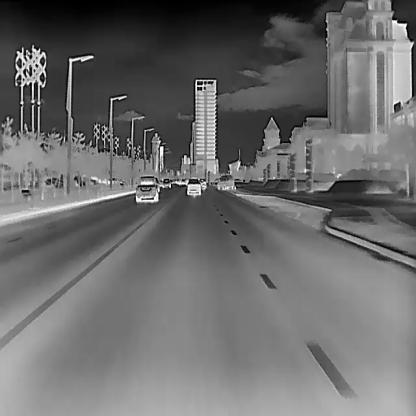car: (133, 173, 159, 202), (216, 175, 234, 191), (186, 174, 199, 196), (160, 176, 170, 187)
